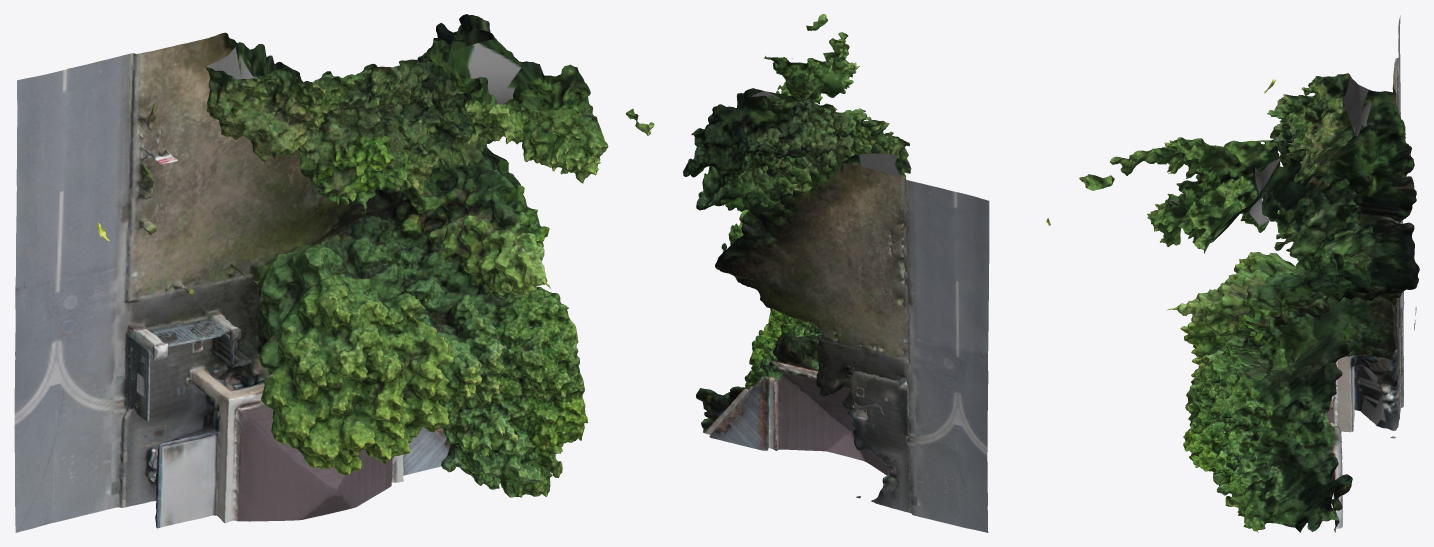
File: Tile_+012_+029.fbx
3 views of the same model, side by side, from view 1: azimuth 30°, elevation 25°; view 2: azimuth 150°, elevation 25°; view 3: azimuth 270°, elevation 25° (orthographic). The views are drawn at different scales.
Visible parts, largest first — view 1: DefaultName; view 2: DefaultName; view 3: DefaultName.
Part boxes in pixels (bbox=[...]): DefaultName: bbox=[14, 14, 654, 532]; DefaultName: bbox=[683, 14, 1050, 532]; DefaultName: bbox=[1079, 15, 1419, 532].
Bounding box in the file's own units: 22.54 × 22.54 × 19.67.
